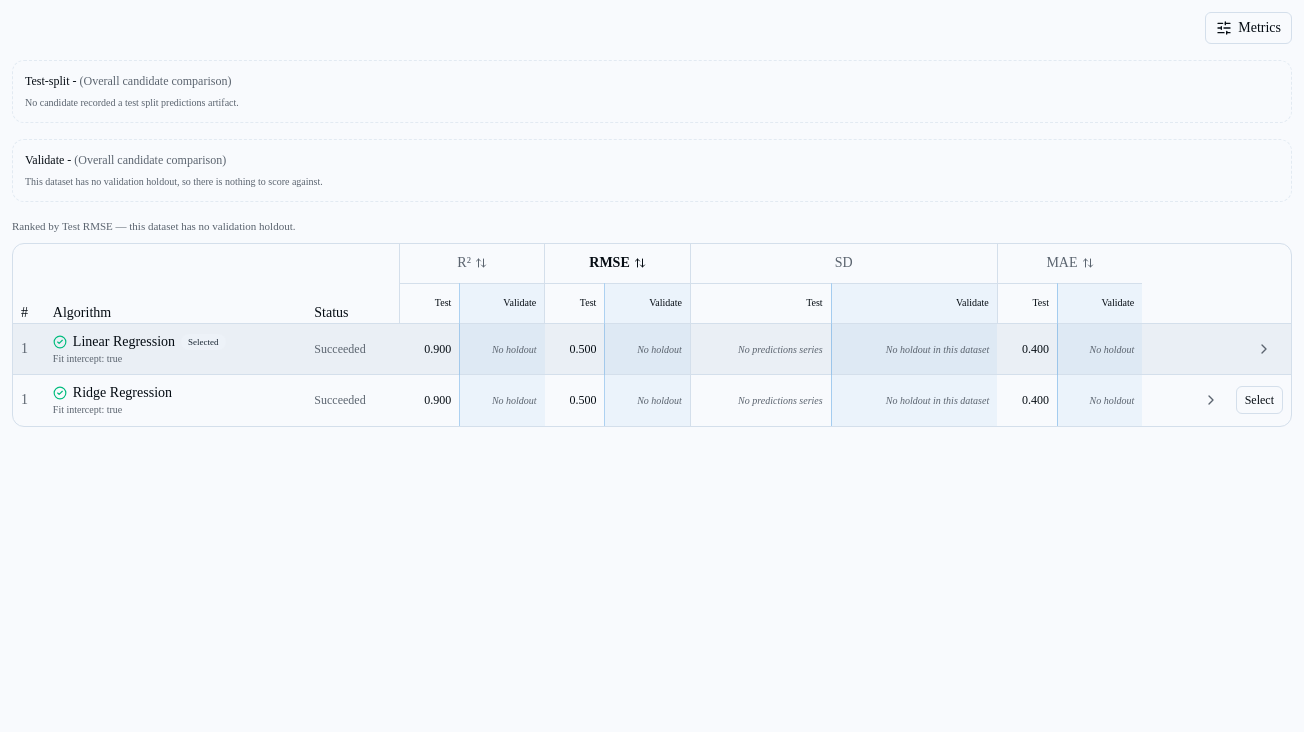
Test: Phase4ModelSelection — charts revealed per row, not all at once (MODEL-FLOW-019-T06) › expanding one row does not reveal another row’s chart
Click the button named "show charts" in the row of "Linear Regression". click: x=1264, y=349
box: [1245,335,1283,363]
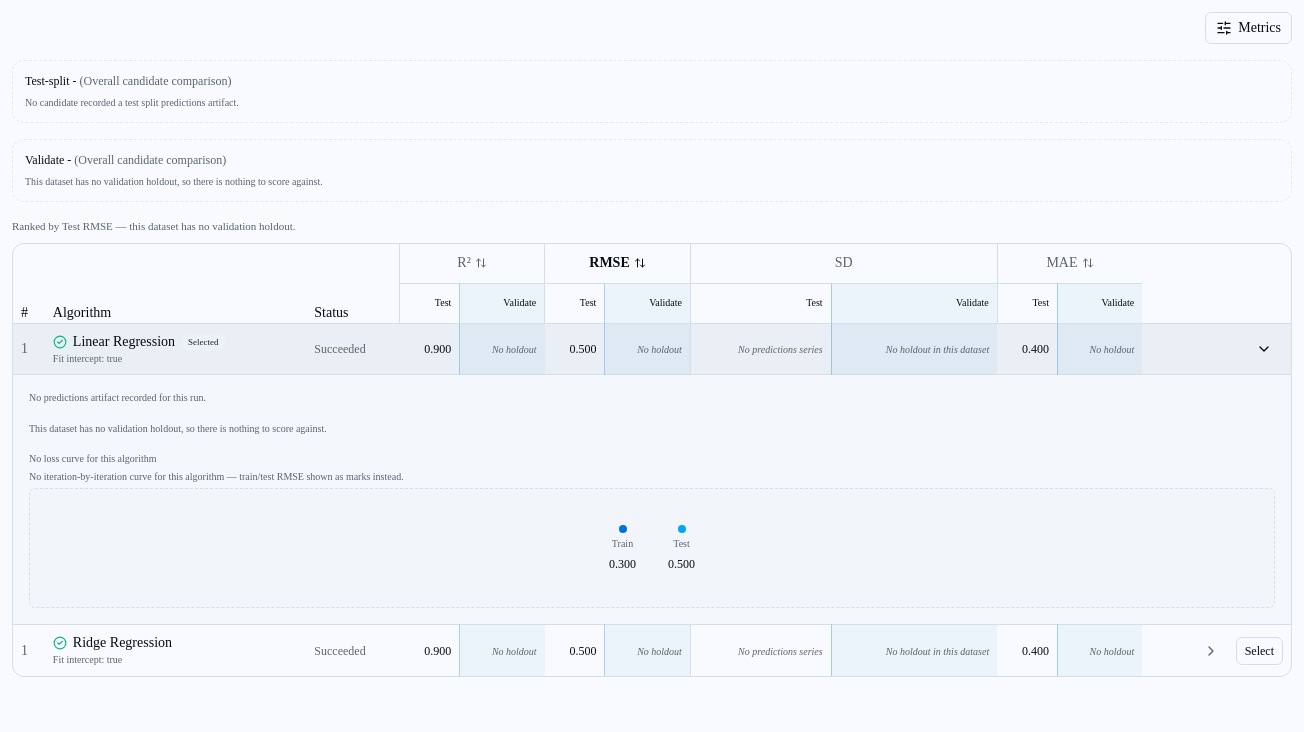
Expected: the text "No predictions artifact recorded for this run." is shown once, [29,392,206,403]
